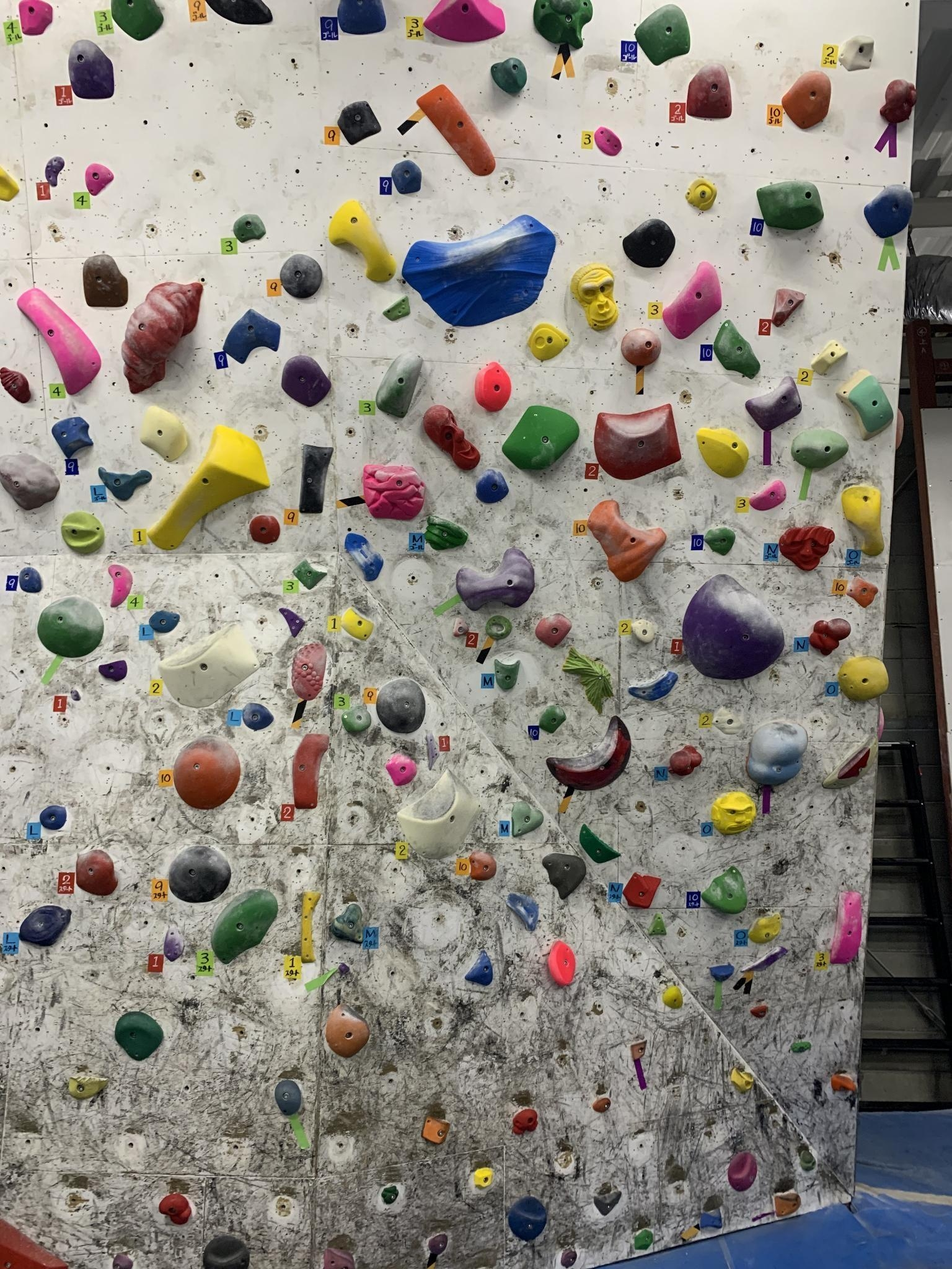hold: (402, 215, 555, 326), (148, 426, 270, 549), (682, 574, 784, 678), (121, 282, 203, 393), (17, 288, 100, 393), (158, 623, 258, 707), (397, 770, 480, 858), (416, 84, 495, 175), (594, 404, 681, 480), (588, 499, 666, 582), (546, 716, 630, 789), (328, 200, 396, 281), (211, 889, 278, 963), (456, 547, 534, 610), (502, 405, 578, 469), (174, 737, 240, 809), (663, 261, 721, 338), (836, 369, 894, 439), (37, 597, 104, 657), (747, 721, 807, 785), (423, 405, 480, 469), (169, 845, 231, 902), (362, 464, 425, 519), (424, 0, 505, 42), (0, 453, 60, 509), (562, 647, 612, 713), (635, 4, 690, 64), (0, 1219, 67, 1268), (757, 180, 823, 229), (570, 263, 618, 330), (841, 485, 884, 556), (745, 377, 801, 431), (223, 309, 280, 362), (822, 735, 878, 788), (376, 353, 422, 417), (782, 71, 831, 128), (534, 0, 592, 48), (713, 320, 760, 378), (68, 40, 114, 99), (376, 678, 425, 733), (140, 405, 188, 461), (293, 733, 328, 808), (778, 525, 835, 571), (864, 184, 913, 237), (697, 428, 749, 477), (622, 219, 675, 267), (281, 355, 330, 406), (686, 64, 731, 118), (83, 253, 128, 307), (791, 428, 848, 470), (115, 1011, 163, 1060), (830, 891, 862, 964), (325, 1004, 369, 1057), (838, 656, 888, 701), (299, 444, 332, 512), (19, 905, 71, 946), (702, 866, 747, 913), (112, 0, 163, 40), (542, 853, 586, 899), (291, 643, 326, 700), (711, 791, 756, 835), (76, 849, 117, 895), (345, 532, 383, 581), (474, 361, 511, 411), (338, 101, 381, 144), (280, 254, 322, 298), (61, 511, 104, 553), (507, 1196, 547, 1241), (51, 416, 93, 458), (98, 467, 151, 500), (879, 79, 916, 124), (338, 0, 386, 34), (527, 322, 569, 360), (206, 0, 272, 24), (203, 1234, 249, 1268), (579, 825, 620, 863), (621, 328, 661, 366), (628, 670, 677, 701), (809, 618, 850, 655), (425, 516, 467, 550), (301, 890, 320, 962), (623, 872, 661, 908), (490, 58, 526, 94), (330, 903, 363, 942), (839, 35, 874, 71), (506, 893, 539, 931), (535, 613, 571, 647), (811, 340, 847, 374), (741, 946, 788, 972), (18, 0, 52, 35), (728, 1151, 757, 1192), (548, 941, 575, 985), (772, 289, 804, 326), (749, 480, 786, 511), (475, 469, 508, 503), (511, 801, 543, 836), (0, 367, 31, 403), (158, 1192, 192, 1224), (68, 1073, 108, 1100), (274, 1079, 302, 1116), (108, 564, 132, 607), (341, 608, 373, 640), (685, 177, 716, 210), (669, 745, 702, 776), (749, 912, 782, 943), (386, 752, 416, 786), (293, 559, 327, 589), (464, 950, 493, 985), (392, 160, 421, 194), (847, 576, 878, 607), (703, 526, 735, 555), (233, 214, 266, 242), (85, 163, 113, 195), (342, 704, 371, 734), (249, 515, 280, 543), (594, 126, 622, 156), (242, 703, 273, 730), (713, 707, 743, 734), (469, 850, 496, 880), (421, 1116, 449, 1144), (279, 607, 305, 637), (495, 659, 520, 690), (773, 1189, 800, 1217), (593, 1188, 621, 1215), (539, 705, 566, 732), (149, 610, 180, 633), (512, 1107, 538, 1134), (322, 1247, 355, 1268), (163, 928, 184, 961), (40, 805, 67, 830), (382, 296, 410, 320), (0, 167, 19, 201), (98, 659, 127, 681), (729, 1067, 754, 1092), (485, 615, 511, 639), (631, 619, 657, 643), (19, 566, 42, 592), (45, 156, 64, 187), (699, 1208, 723, 1230), (662, 985, 683, 1009), (831, 1073, 857, 1091), (798, 1145, 816, 1171), (426, 732, 438, 770), (472, 1167, 493, 1188), (633, 1228, 653, 1250), (709, 964, 734, 981), (428, 1233, 447, 1255), (648, 913, 666, 936), (560, 1247, 578, 1268), (895, 409, 904, 449), (381, 1185, 399, 1204), (630, 1039, 646, 1060), (112, 1252, 133, 1268), (592, 1096, 611, 1113), (452, 618, 469, 637), (790, 1039, 811, 1053), (750, 1003, 769, 1018), (878, 708, 884, 739), (338, 963, 350, 975), (70, 690, 81, 701)
